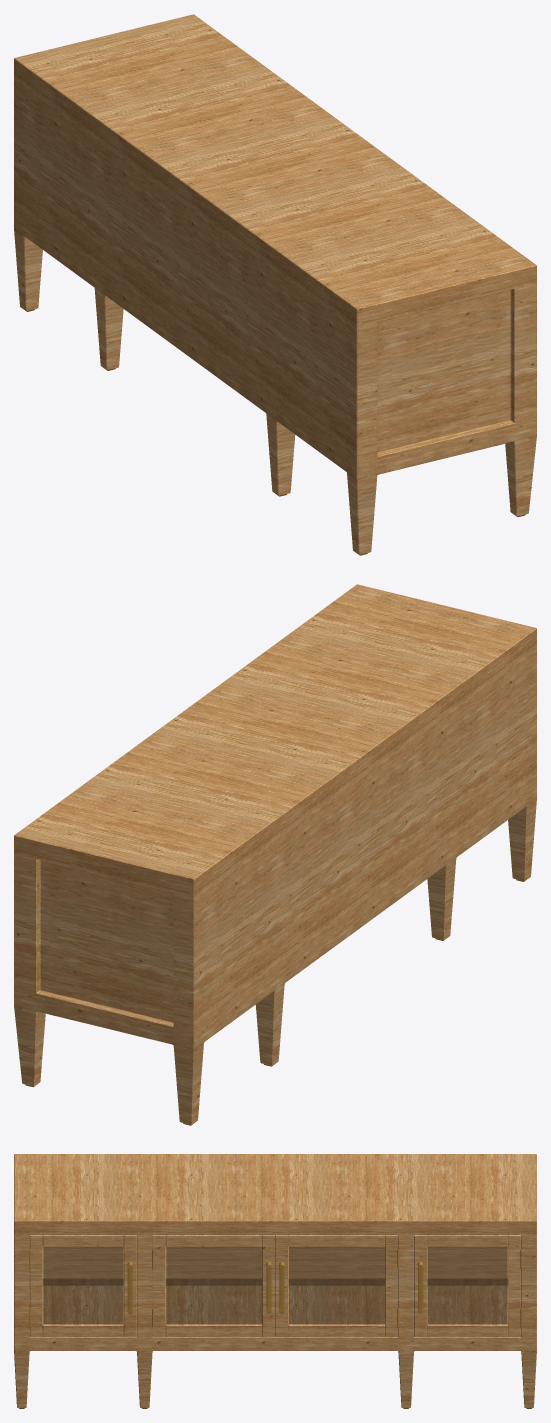
Rendered from french-contemporary-glass-4-door-cabinet.glb.
The picture shows the model from 3 angles, top to bottom: view 1: azimuth 30°, elevation 25°; view 2: azimuth 150°, elevation 25°; view 3: azimuth 270°, elevation 25°; orthographic projection. The views are drawn at different scales.
Visible parts, largest first — view 1: Box002; view 2: Box002; view 3: Box002, partetion.
Part boxes in pixels (left/top/right/bottom): Box002: left=14, top=14, right=536, bottom=555; Box002: left=14, top=584, right=536, bottom=1125; Box002: left=14, top=1154, right=536, bottom=1408; partetion: left=42, top=1247, right=508, bottom=1285.
Size of the model in its own units: 0.6353 by 0.8069 by 2.
Materials: 4 (3 with a texture image).
